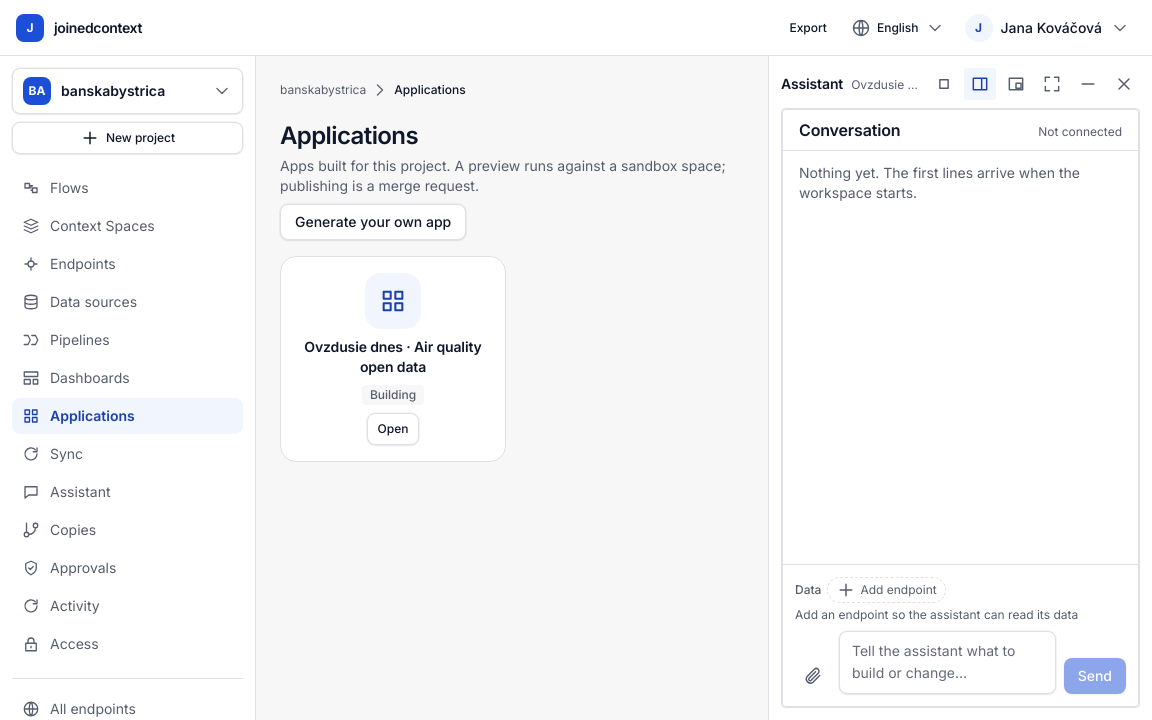
Test case: the app generator › explains itself and links the example apps when there is no builder (AG-26)
Click the button "Generate your own app": click(373, 222) [280,204,466,240]
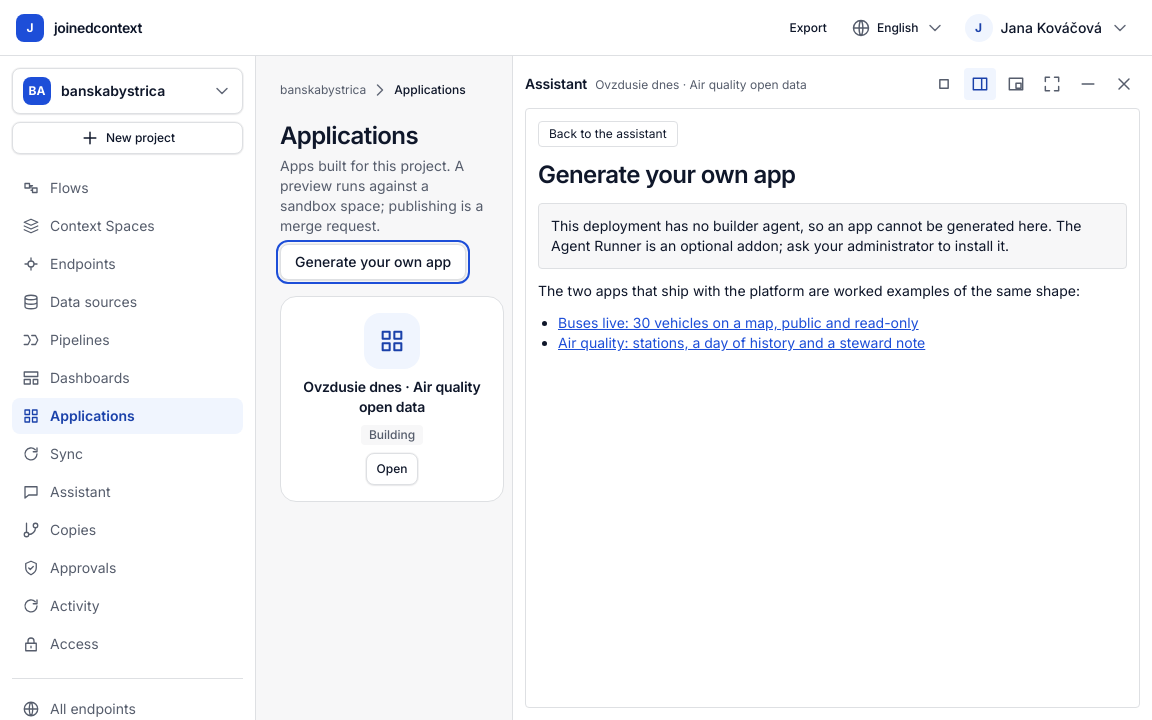
Expected: the text "This deployment has no builder agent, so an app cannot be generated here. The Agent Runner is an optional addon; ask you" is shown, [551,217,1081,254]
